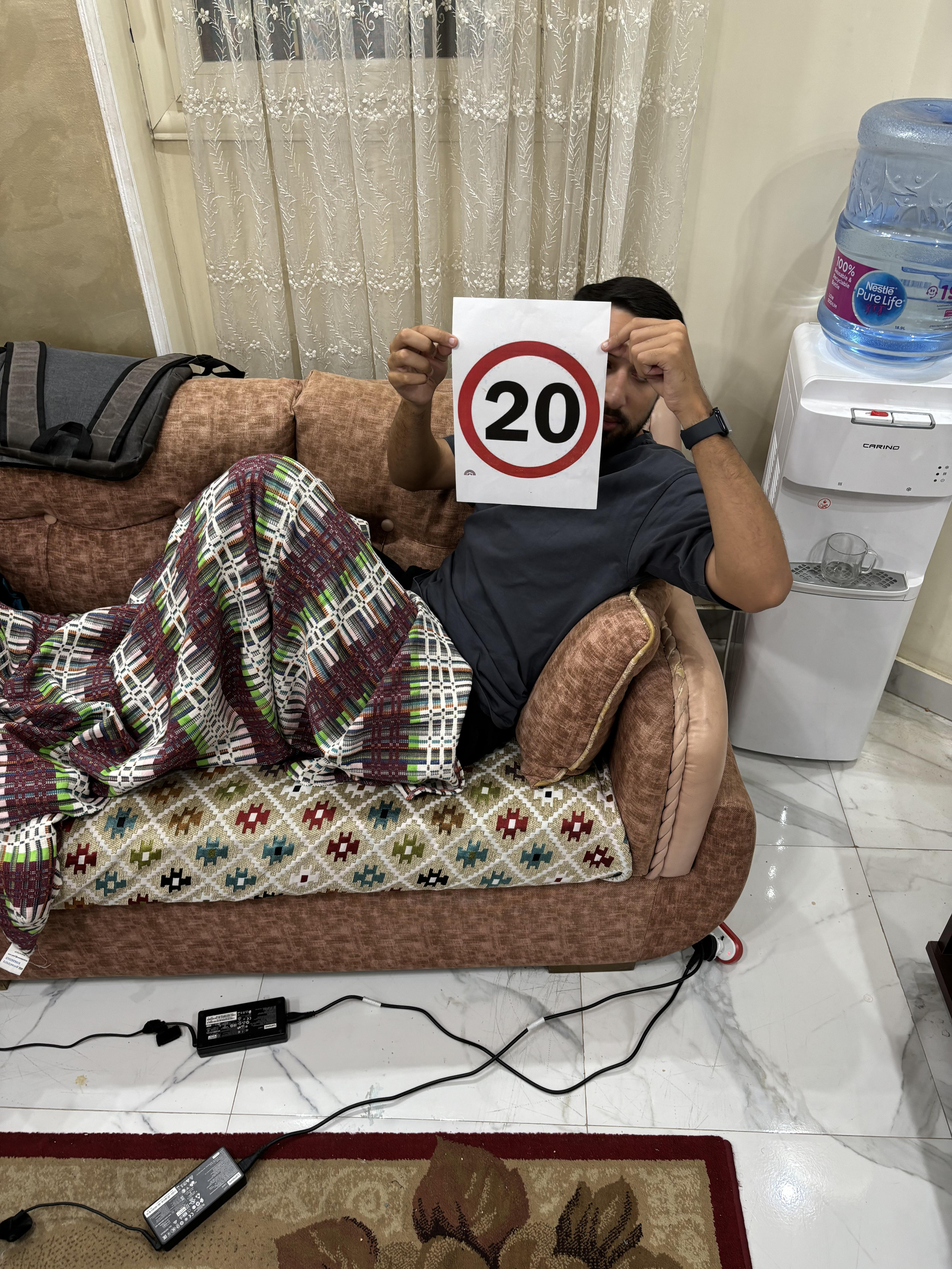20-Speed: (454, 340, 603, 483)
